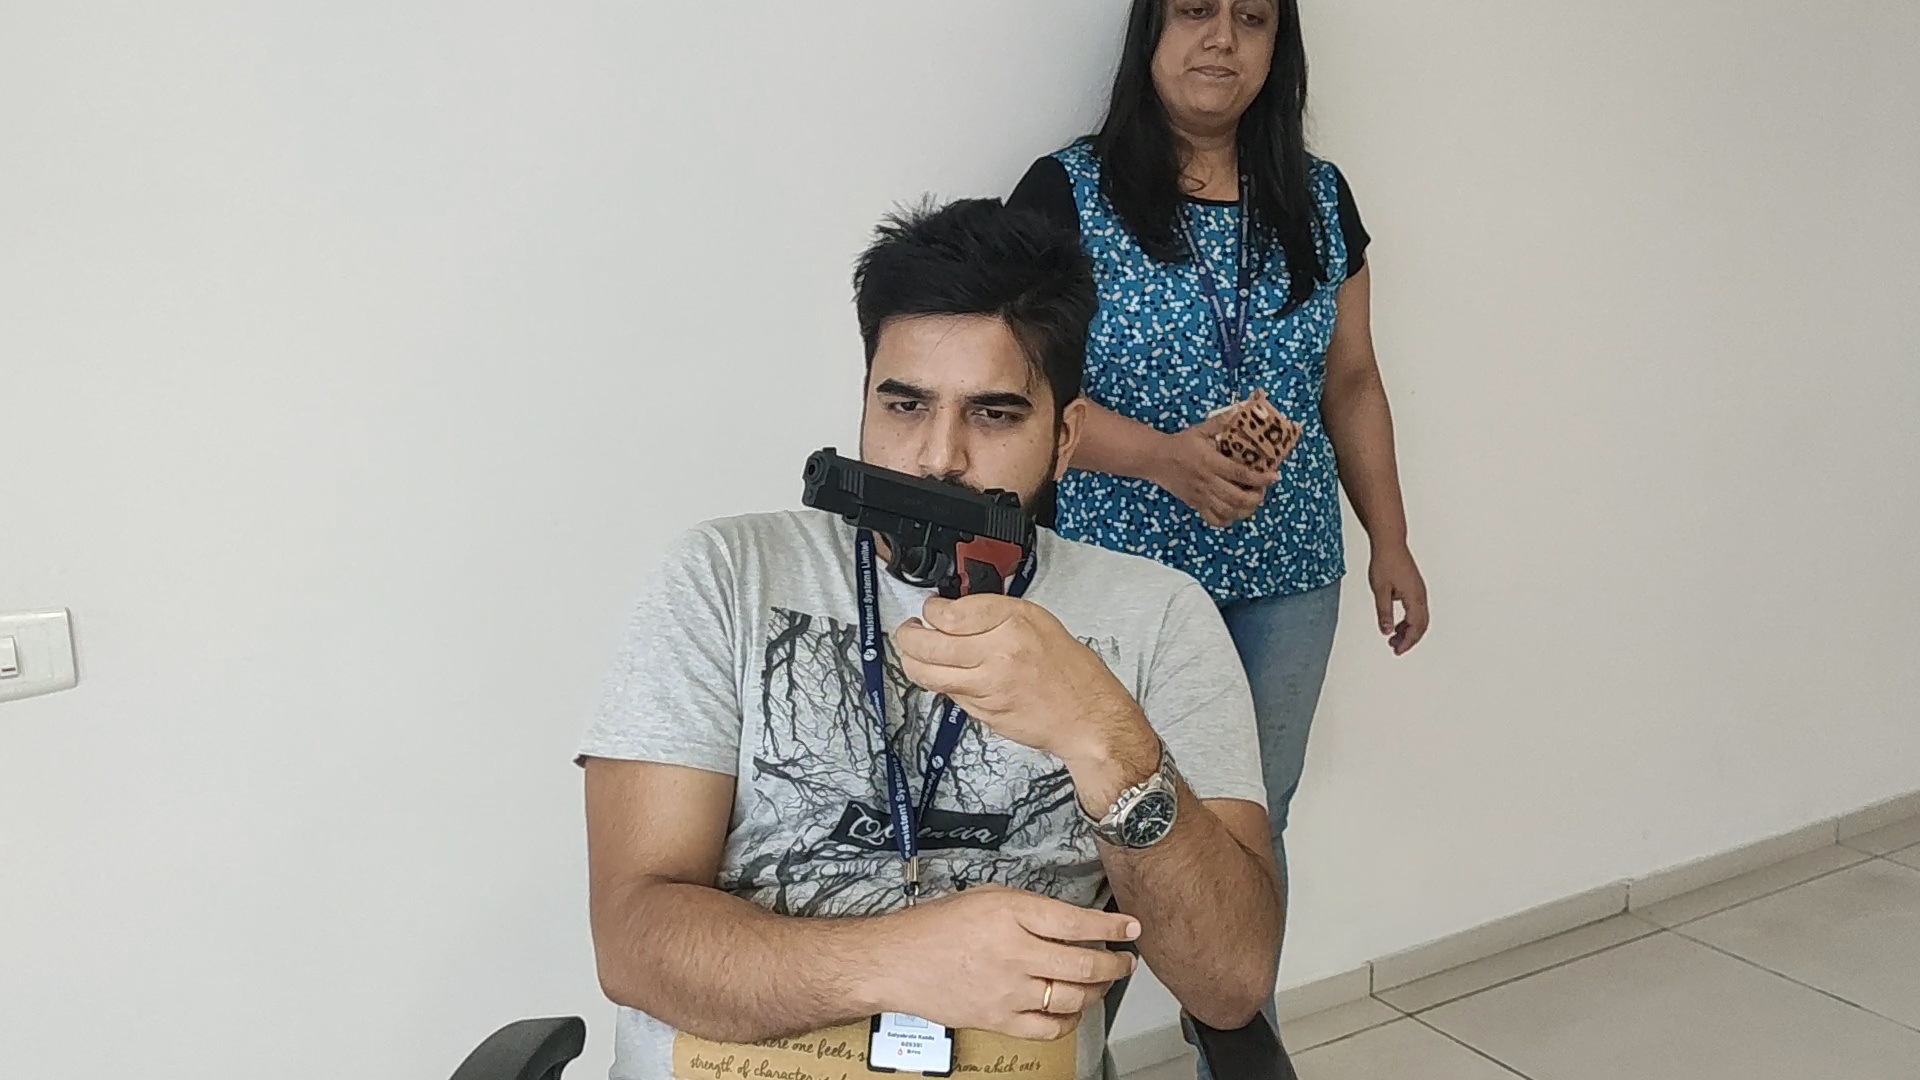gun: (808, 458, 1031, 593)
